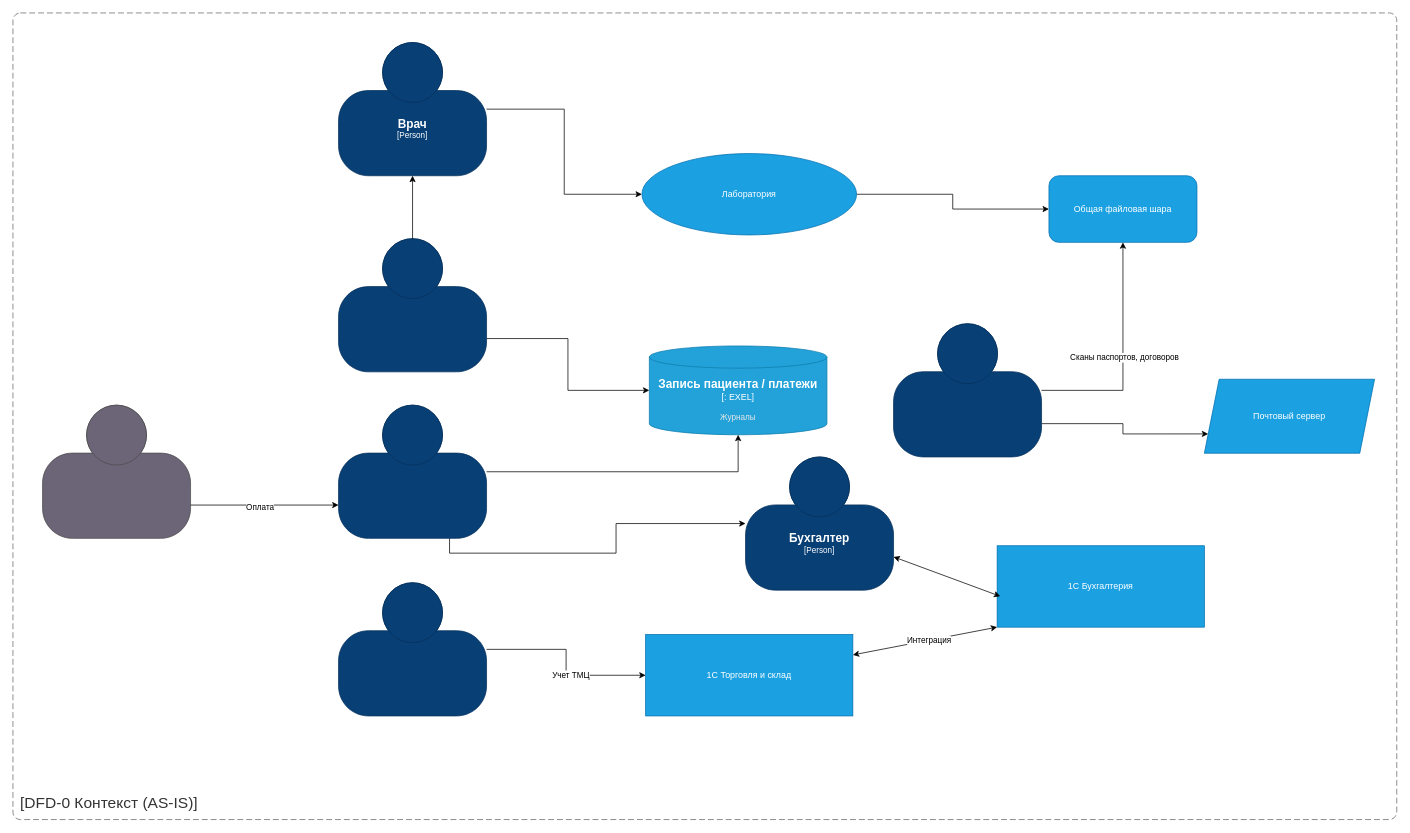
The diagram is 1410 pixels wide and 833 high, and some of its shapes have lost their labels. Each missing label, with the centre of its shape:
Кассир [Person]: the point at 412,471
Пациент [Person]: the point at 116,471
Персонал [Person]: the point at 967,390
Ресепшен [Person]: the point at 412,305
Сотрудник склада [Person]: the point at 412,649
